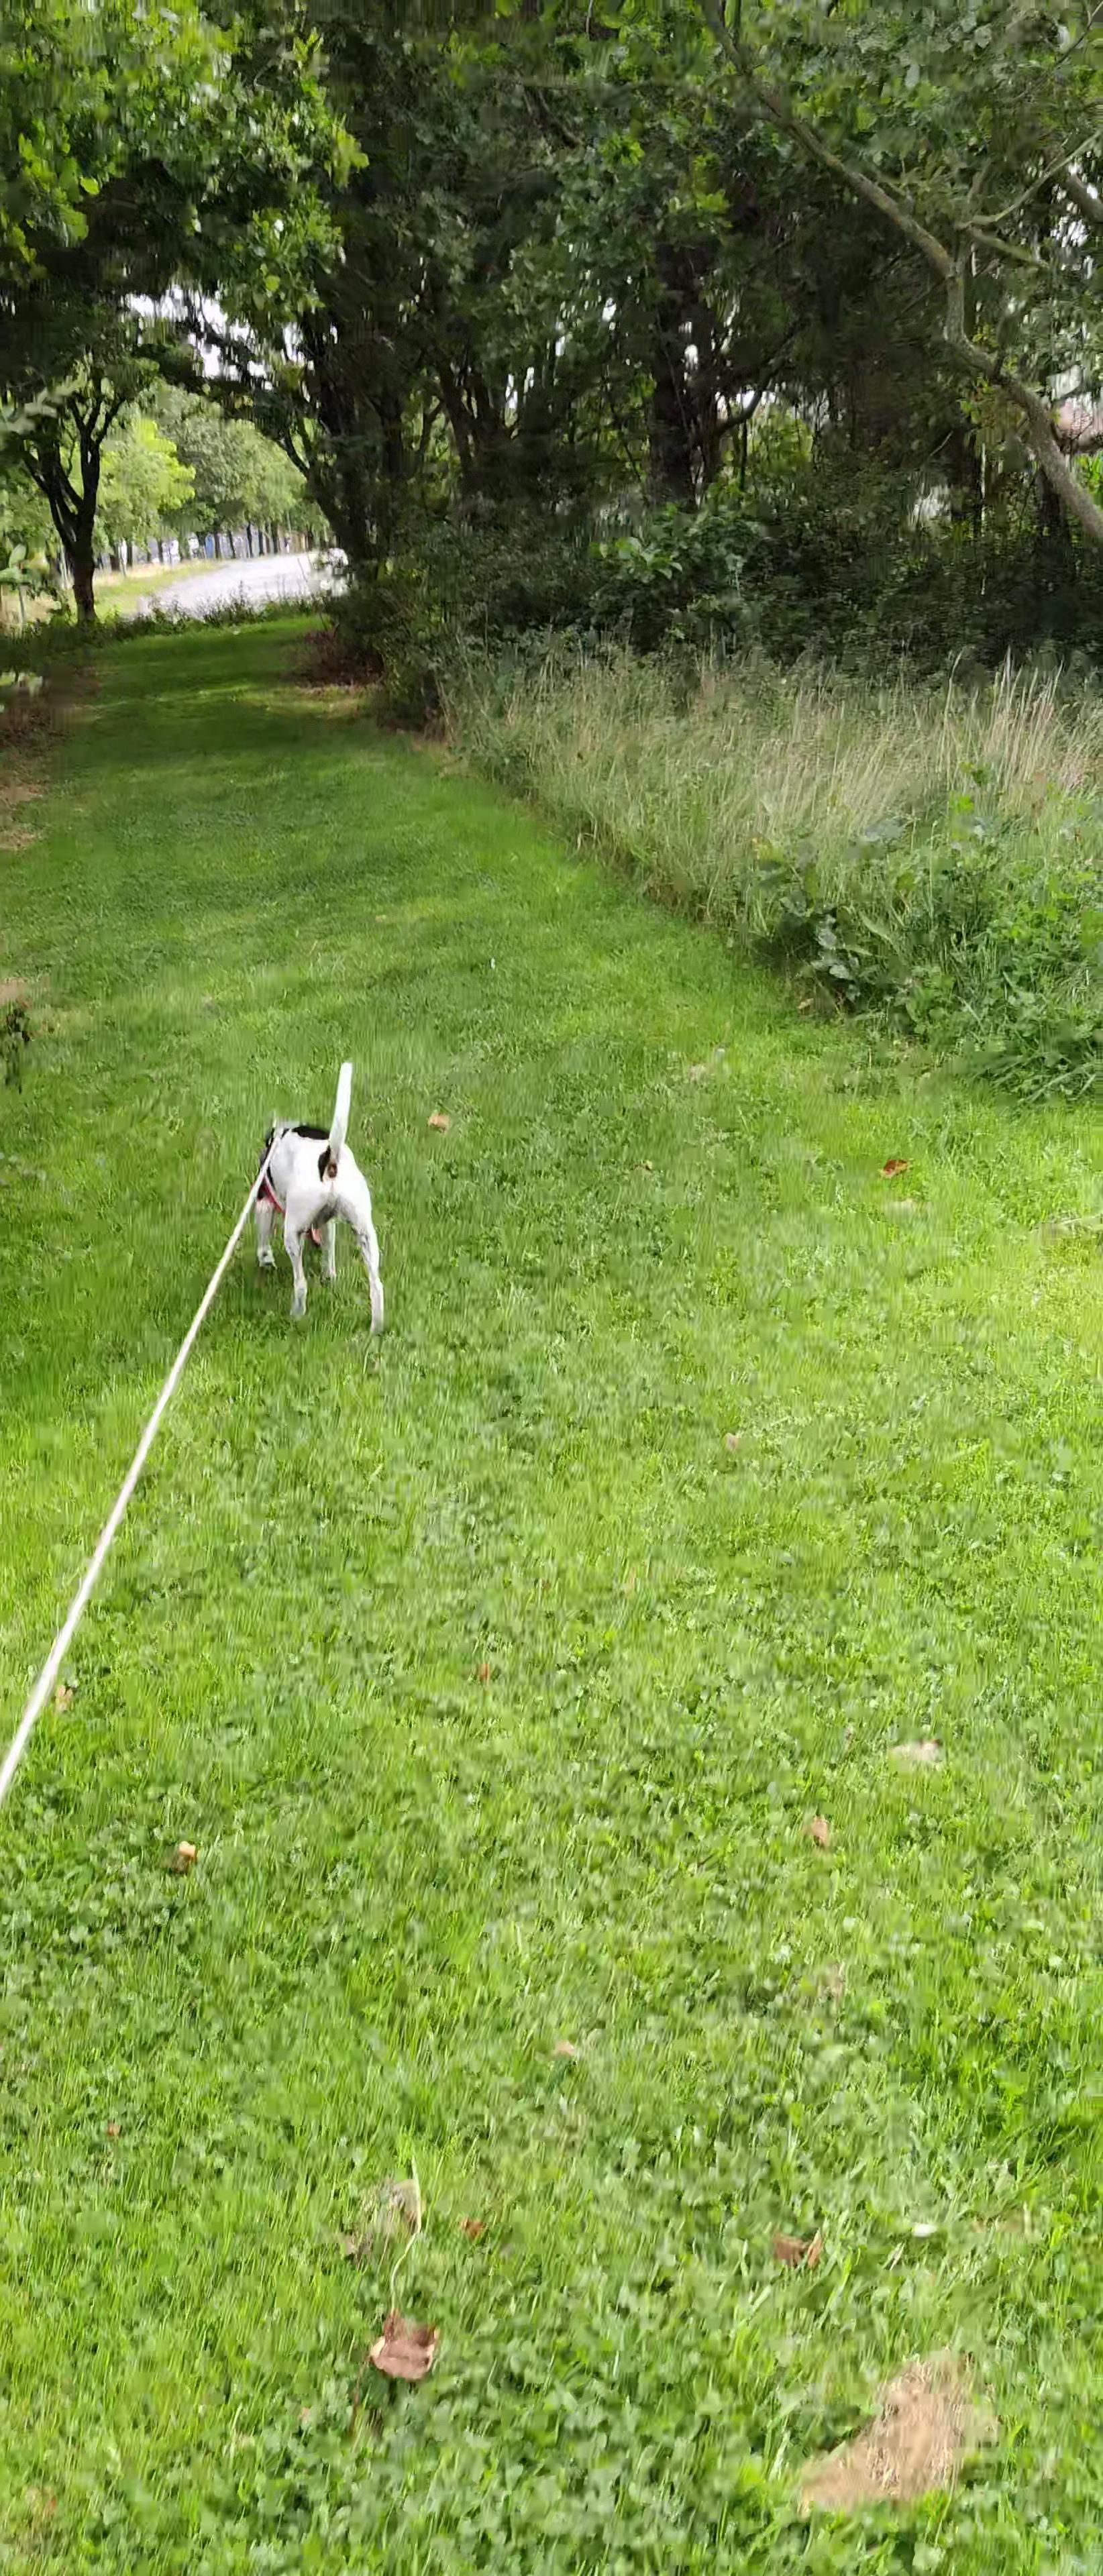Dog: (238, 1025, 409, 1349)
